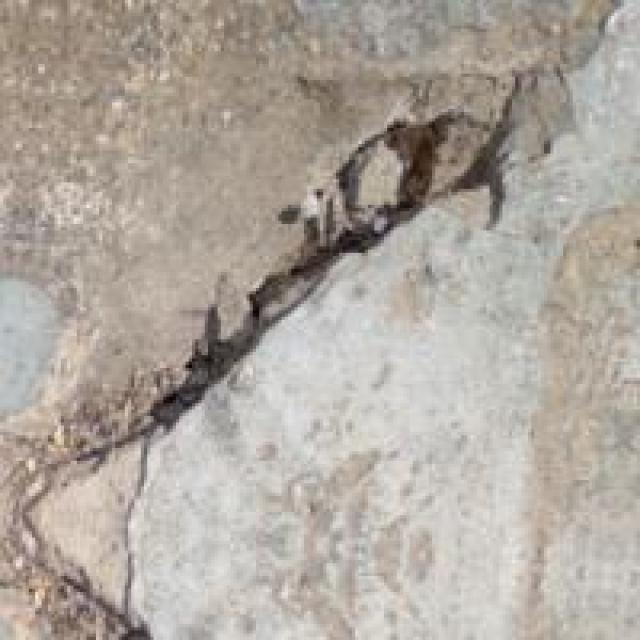Crack: (19, 114, 531, 606)
